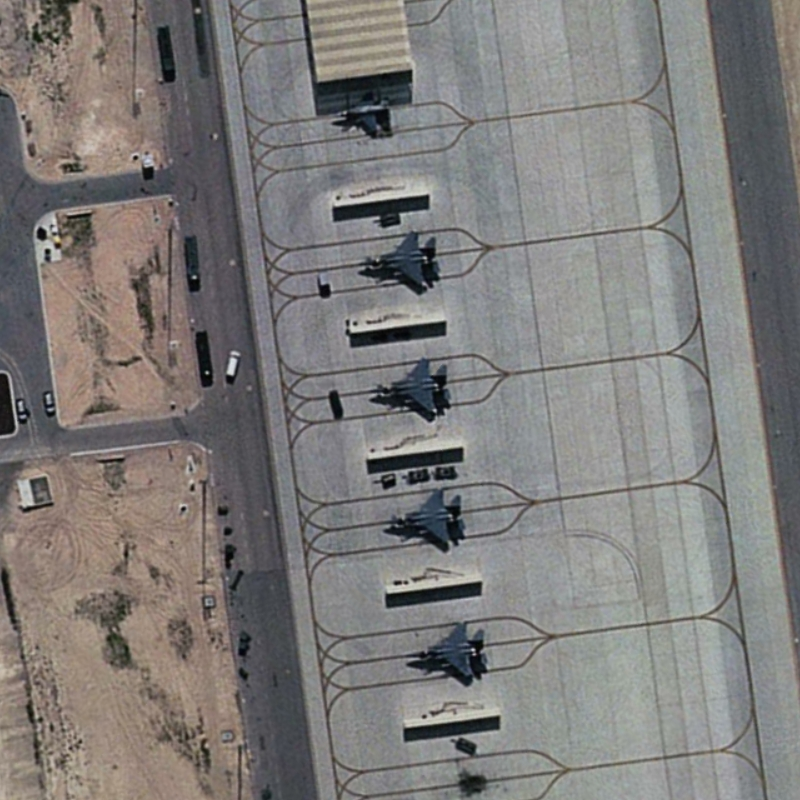A13: (370, 478, 476, 560), (355, 348, 455, 428), (400, 610, 495, 689), (343, 226, 451, 292)
A5: (323, 80, 404, 140)
